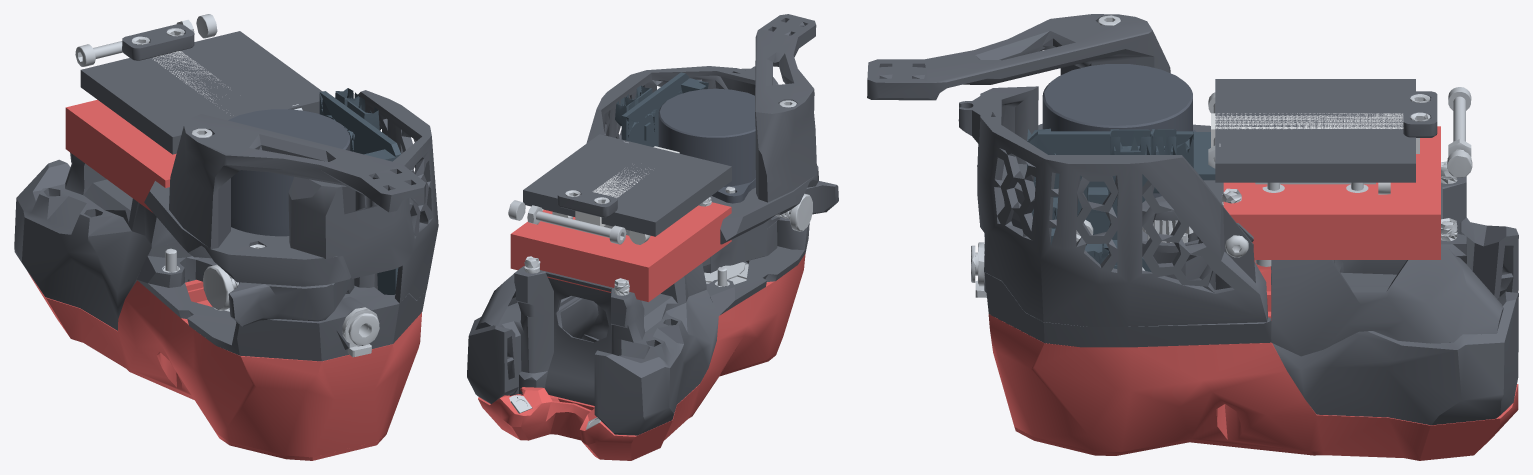
3 renders of one model, left to right at view 1: azimuth 30°, elevation 25°; view 2: azimuth 150°, elevation 25°; view 3: azimuth 270°, elevation 25°, orthographic. The views are drawn at different scales.
Parts seen in each view (by area): view 1: sb_shroud_55, tap_r8_rear_plate, sb_body_166, sb_body_169, sb_body, sb_body_163, sb_body_167, tap_r8_front_carriage, cw2_motor_105, sb_body_160, sb_body_57, nitehawk_pcb_118 (+8 smaller); view 2: sb_body, sb_shroud_55, tap_r8_rear_plate, tap_r8_front_carriage, sb_body_166, cw2_motor_105, sb_body_57, sb_body_169, sb_body_163, sb_body_167, nitehawk_pcb_118, sb_body_159 (+7 smaller); view 3: sb_body_169, sb_shroud_55, sb_body, tap_r8_rear_plate, sb_body_57, tap_r8_front_carriage, sb_body_166, cw2_motor_105, sb_body_163, nitehawk_pcb_118, tap_r8_mgn9_rail, sb_shroud (+7 smaller).
Part boxes in pixels (x1=…): sb_shroud_55: x1=28, y1=273, x2=421, y2=457; tap_r8_rear_plate: x1=80, y1=31, x2=322, y2=154; sb_body_166: x1=169, y1=114, x2=426, y2=248; sb_body_169: x1=288, y1=90, x2=438, y2=303; sb_body: x1=14, y1=159, x2=195, y2=330; sb_body_163: x1=136, y1=256, x2=426, y2=361; sb_body_167: x1=144, y1=181, x2=351, y2=286; tap_r8_front_carriage: x1=65, y1=99, x2=176, y2=212; cw2_motor_105: x1=228, y1=109, x2=350, y2=236; sb_body_160: x1=228, y1=277, x2=354, y2=326; sb_body_57: x1=65, y1=152, x2=177, y2=247; nitehawk_pcb_118: x1=319, y1=91, x2=400, y2=294; sb_body: x1=467, y1=290, x2=718, y2=435; sb_shroud_55: x1=478, y1=253, x2=805, y2=458; tap_r8_rear_plate: x1=523, y1=134, x2=731, y2=236; tap_r8_front_carriage: x1=510, y1=202, x2=731, y2=302; sb_body_166: x1=755, y1=14, x2=817, y2=202; cw2_motor_105: x1=658, y1=88, x2=755, y2=203; sb_body_57: x1=475, y1=263, x2=706, y2=342; sb_body_169: x1=586, y1=66, x2=778, y2=143; sb_body_163: x1=706, y1=217, x2=809, y2=315; sb_body_167: x1=710, y1=165, x2=818, y2=244; nitehawk_pcb_118: x1=621, y1=72, x2=689, y2=146; sb_body_159: x1=703, y1=221, x2=777, y2=273; sb_body_169: x1=977, y1=86, x2=1267, y2=326; sb_shroud_55: x1=988, y1=260, x2=1518, y2=457; sb_body: x1=1271, y1=217, x2=1518, y2=425; tap_r8_rear_plate: x1=1215, y1=79, x2=1415, y2=182; sb_body_57: x1=1271, y1=176, x2=1503, y2=356; tap_r8_front_carriage: x1=1223, y1=126, x2=1440, y2=259; sb_body_166: x1=867, y1=14, x2=1170, y2=100; cw2_motor_105: x1=1042, y1=64, x2=1196, y2=197; sb_body_163: x1=984, y1=231, x2=1271, y2=347; nitehawk_pcb_118: x1=1028, y1=131, x2=1193, y2=271; tap_r8_mgn9_rail: x1=1211, y1=113, x2=1419, y2=153; sb_shroud: x1=1014, y1=427, x2=1494, y2=460.
Size of the model in its own units: 0.0711 by 0.0901 by 0.156.
